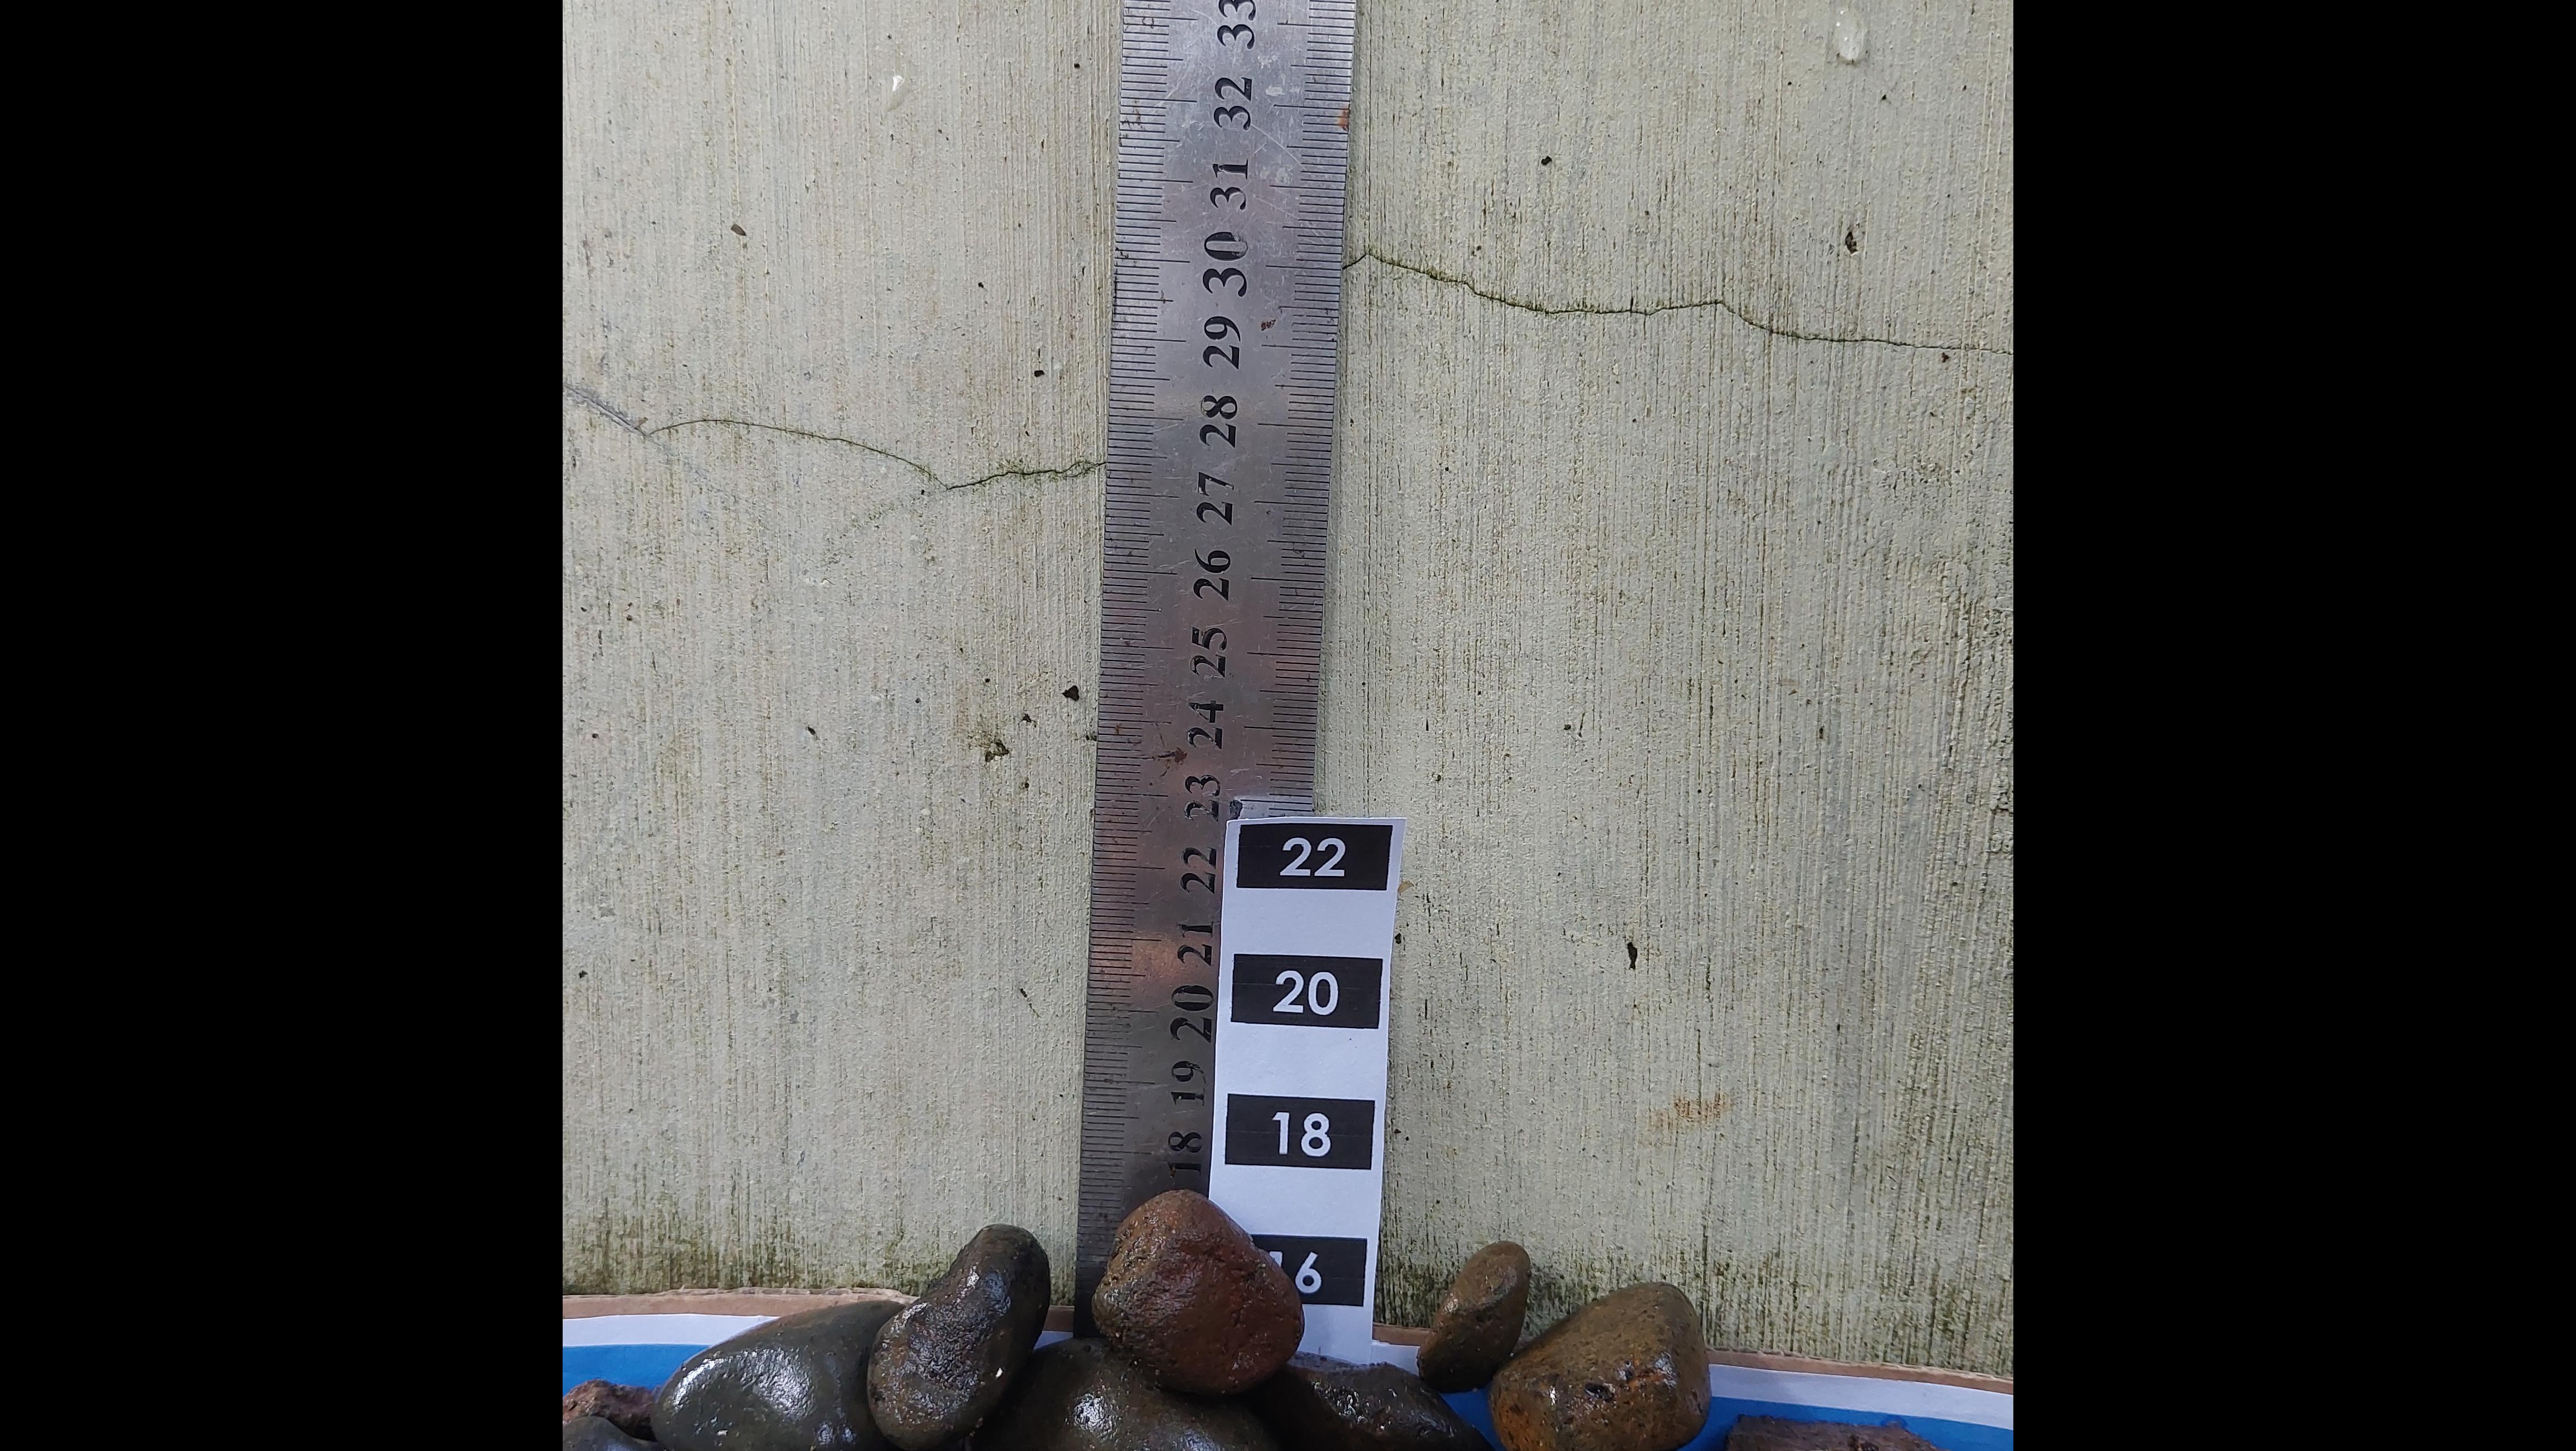kotak_2x1: (1233, 954, 1380, 1032), (1226, 1095, 1371, 1170), (1238, 826, 1387, 892)
